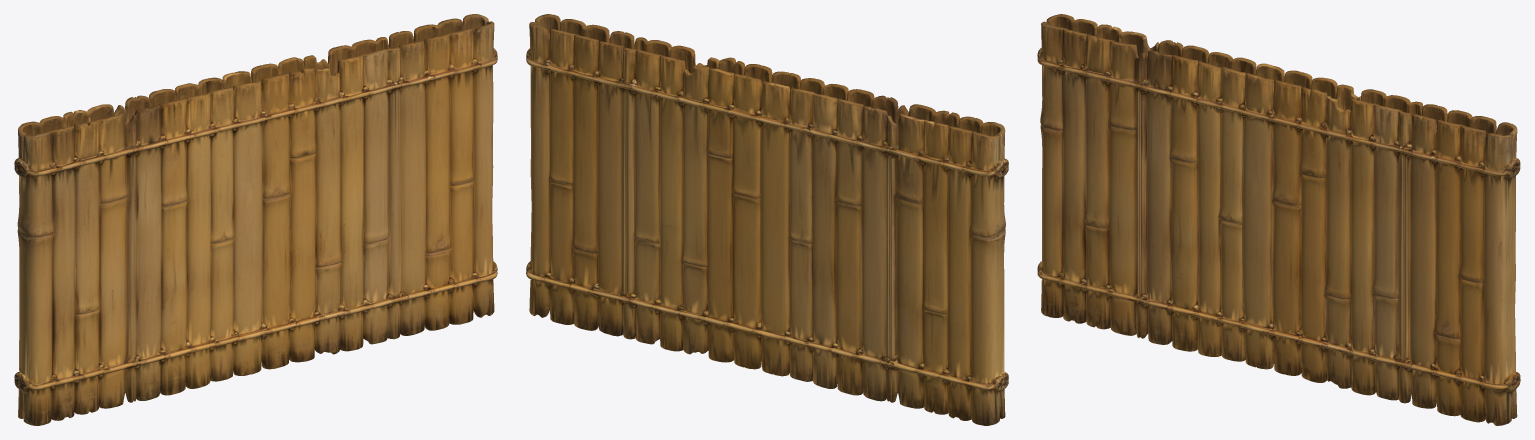
File: bamboo-notice-ar.glb
The picture shows the model from 3 angles, left to right: view 1: azimuth 30°, elevation 25°; view 2: azimuth 150°, elevation 25°; view 3: azimuth 330°, elevation 25°; orthographic projection.
Visible parts, largest first — view 1: node_0; view 2: node_0; view 3: node_0.
Part boxes in pixels (x1=…): node_0: x1=14, y1=14, x2=497, y2=425; node_0: x1=526, y1=14, x2=1008, y2=425; node_0: x1=1037, y1=14, x2=1520, y2=425.
Bounding box in the file's own units: 1.05 × 0.617 × 0.0824.
1 material, 1 textured.
